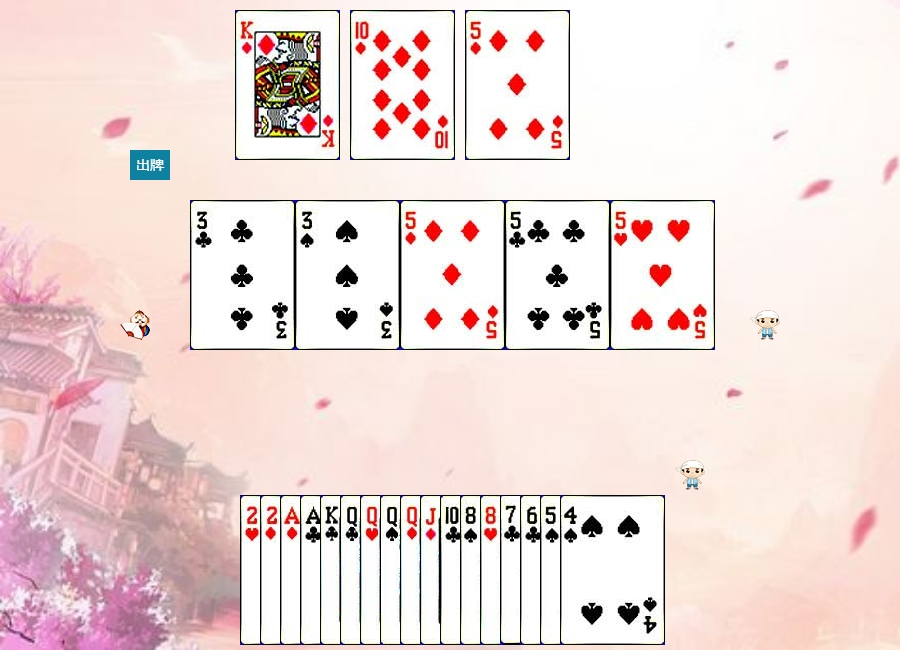10~1: (350, 10, 455, 160)
10~2: (440, 495, 545, 645)
11~1: (420, 495, 525, 645)
12~1: (400, 495, 505, 645)
12~2: (340, 495, 445, 645)
12~3: (360, 495, 465, 645)
12~4: (380, 495, 485, 645)
13~1: (235, 10, 340, 160)
13~2: (320, 495, 425, 645)
14~1: (280, 495, 385, 645)
14~2: (300, 495, 405, 645)
15~1: (260, 495, 365, 645)
15~3: (240, 495, 345, 645)
3~2: (190, 200, 295, 350)
3~4: (295, 200, 400, 350)
4~4: (560, 495, 665, 645)
5~1: (465, 10, 570, 160), (400, 200, 505, 350)
5~2: (505, 200, 610, 350)
5~3: (610, 200, 715, 350)
5~4: (540, 495, 645, 645)
6~2: (520, 495, 625, 645)
7~2: (500, 495, 605, 645)
8~3: (480, 495, 585, 645)
8~4: (460, 495, 565, 645)
